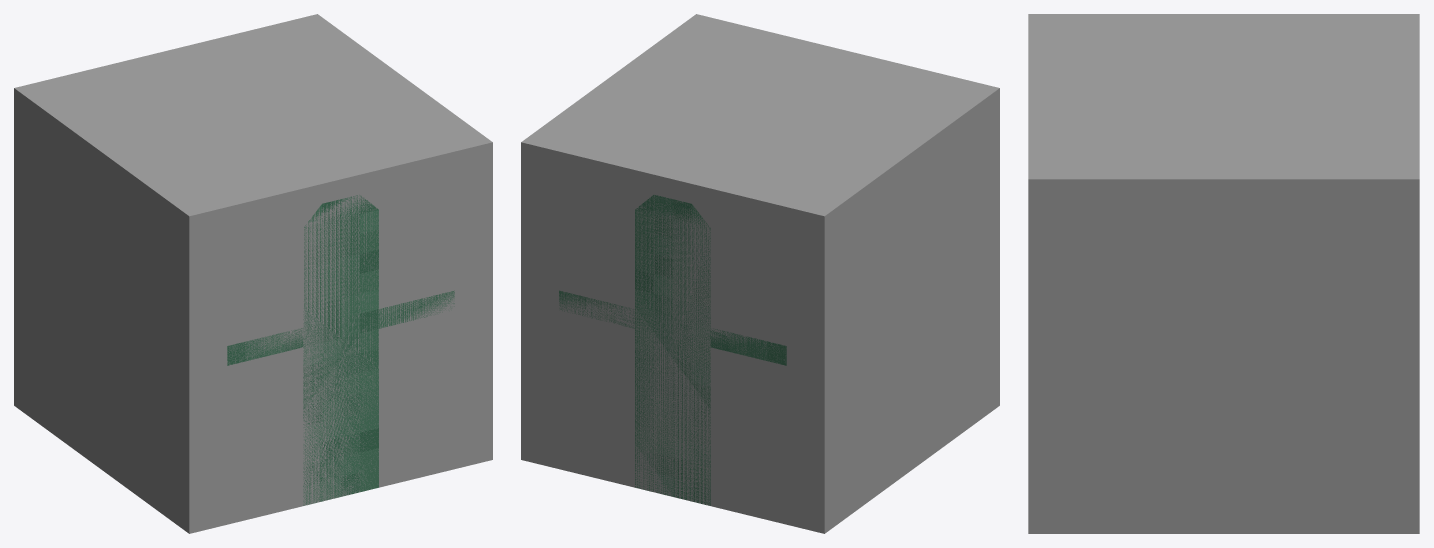
Rendered from compressora.obj.
3 renders of one model, left to right at view 1: azimuth 30°, elevation 25°; view 2: azimuth 150°, elevation 25°; view 3: azimuth 270°, elevation 25°, orthographic. The views are drawn at different scales.
Visible parts, largest first — view 1: Minecraft_Block_Cube, main; view 2: Minecraft_Block_Cube, main; view 3: Minecraft_Block_Cube.
Boxes of the visible parts, x1,y1,x2,y2 form: Minecraft_Block_Cube: (14,14,492,533); main: (227,195,454,505); Minecraft_Block_Cube: (521,14,999,533); main: (559,195,786,505); Minecraft_Block_Cube: (1028,14,1419,533).
Bounding box in the file's own units: 1 × 1 × 1.
2 materials, 1 textured.
